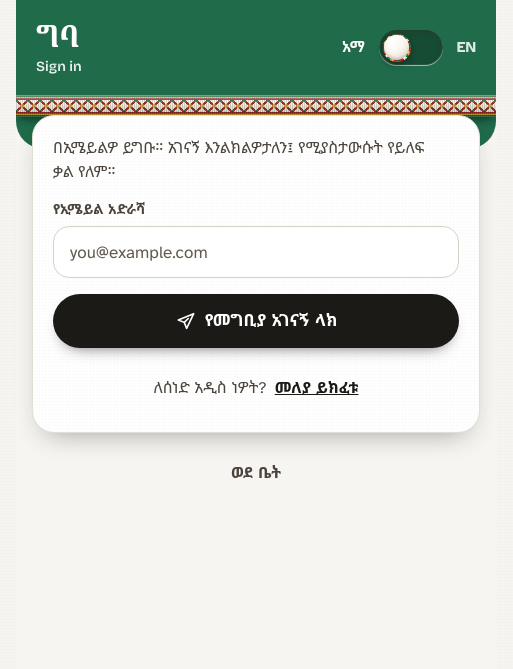
Test case: sign in › REJECTS a wrong code with a plain message and stays on the page
Type "abebe@example.com" into the field with id "auth-email". click: (256, 252)
box: [53,226,459,278]
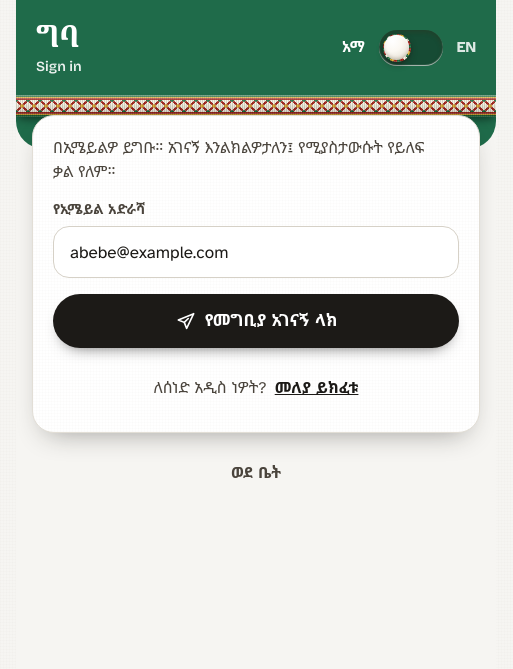
Click the submit button. click: (256, 321)
box: [53,294,459,348]
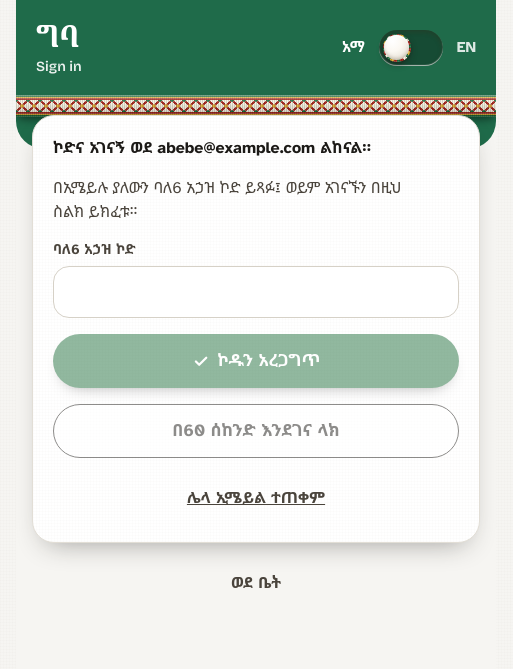
Type "000000" into the field with id "auth-email". click: (256, 292)
box: [53,266,459,318]
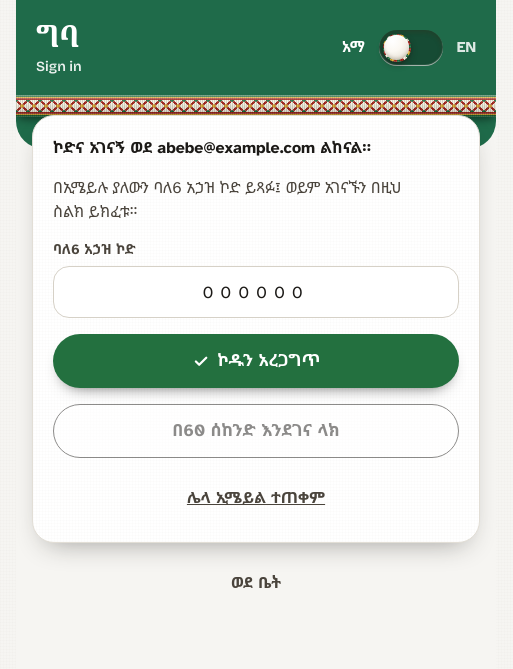
Click the submit button. click: (256, 361)
box: [53,334,459,388]
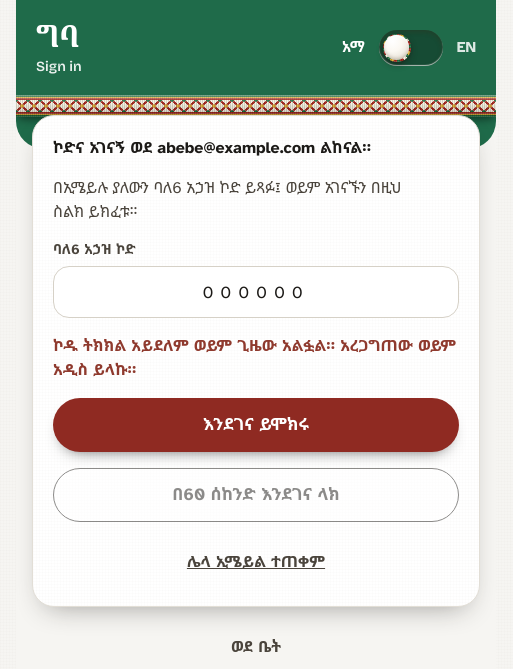
Expected: the message "ኮዱ ትክክል አይደለም ወይም ጊዜው አልፏል። አረጋግጠው ወይም አዲስ ይላኩ።" is shown, [53,334,459,382]
